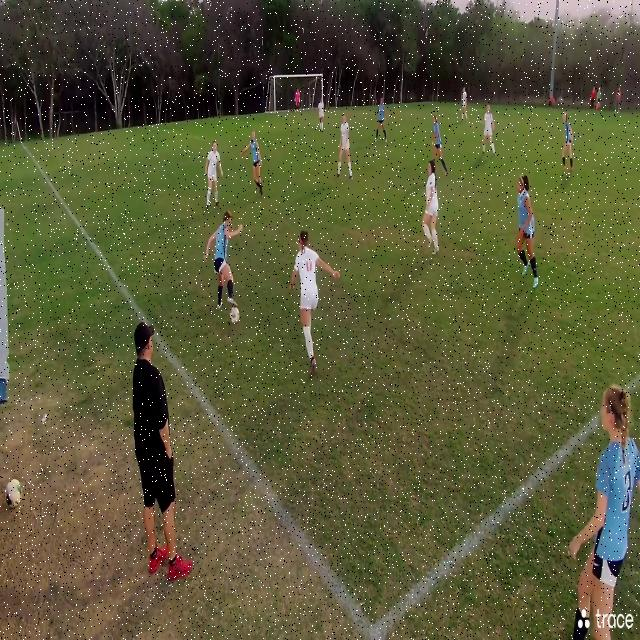Ball: (230, 304, 240, 326)
TEAM 1: (573, 381, 635, 640), (513, 173, 543, 290), (210, 208, 240, 308), (247, 128, 267, 198), (431, 113, 449, 174), (560, 111, 576, 175), (374, 98, 390, 146)
TEAM 2: (294, 227, 329, 379), (421, 159, 441, 259), (205, 138, 222, 210), (338, 115, 353, 182), (481, 104, 498, 158), (461, 86, 469, 122), (318, 97, 325, 133)
